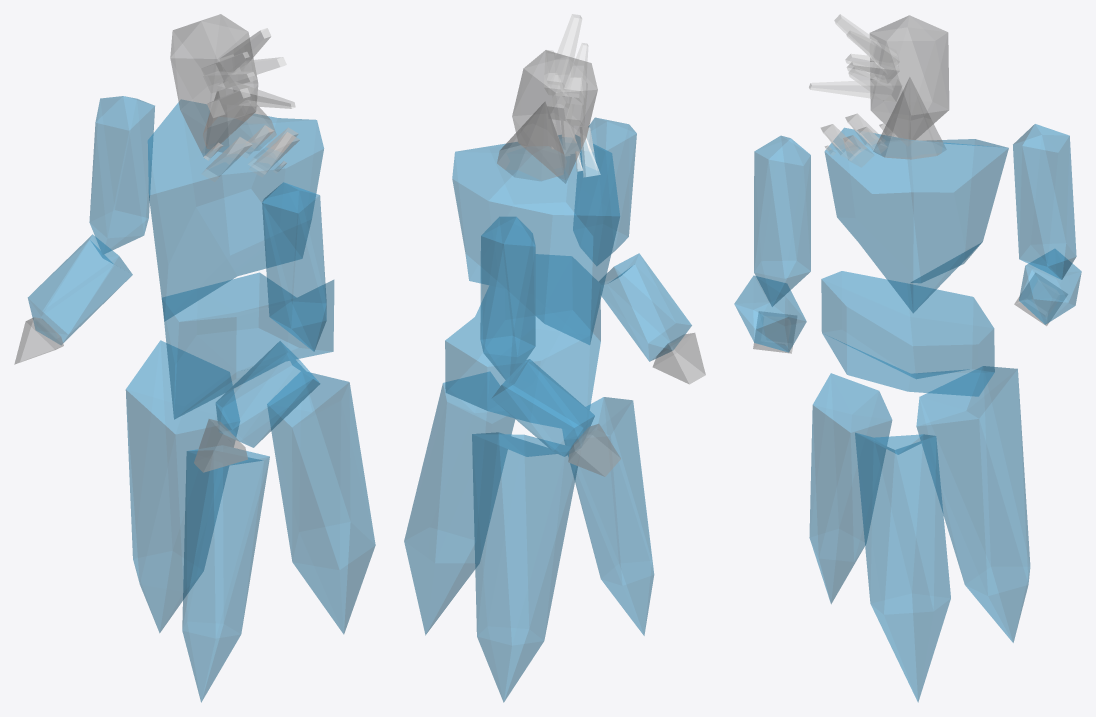
Rendered from ghostDistanceAttack11.obj.
3 views of the same model, side by side, from view 1: azimuth 30°, elevation 25°; view 2: azimuth 150°, elevation 25°; view 3: azimuth 270°, elevation 25° (orthographic). The views are drawn at different scales.
Parts seen in each view (by area): view 1: Cube.001_Cube.007, Icosphere.020, Icosphere.019, Cube_Cube.007, Icosphere.018, Icosphere.005_Icosphere.007, Icosphere.007_Icosphere.006, Icosphere.003_Icosphere.007, Icosphere.008_Icosphere.006, Icosphere.006_Icosphere.006, Cone_Cone.007, Cube.002_Cube.007 (+8 smaller); view 2: Cube.001_Cube.007, Icosphere.020, Cube_Cube.007, Icosphere.019, Icosphere.018, Icosphere.007_Icosphere.006, Icosphere.003_Icosphere.007, Icosphere.005_Icosphere.007, Icosphere.006_Icosphere.006, Icosphere.008_Icosphere.006, Cone_Cone.007, Cube.002_Cube.007 (+4 smaller); view 3: Cube.001_Cube.007, Icosphere.020, Icosphere.019, Cube_Cube.007, Icosphere.018, Icosphere.005_Icosphere.007, Icosphere.003_Icosphere.007, Icosphere.007_Icosphere.006, Icosphere.006_Icosphere.006, Cone_Cone.007, Icosphere.008_Icosphere.006, Cube.003_Cube.007 (+5 smaller).
Part boxes in pixels (x1=…): Cube.001_Cube.007: x1=147, y1=99, x2=323, y2=321; Icosphere.020: x1=125, y1=340, x2=239, y2=632; Icosphere.019: x1=267, y1=372, x2=375, y2=634; Cube_Cube.007: x1=162, y1=272, x2=334, y2=419; Icosphere.018: x1=182, y1=445, x2=269, y2=702; Icosphere.005_Icosphere.007: x1=262, y1=182, x2=326, y2=351; Icosphere.007_Icosphere.006: x1=89, y1=96, x2=154, y2=254; Icosphere.003_Icosphere.007: x1=170, y1=14, x2=258, y2=156; Icosphere.008_Icosphere.006: x1=28, y1=234, x2=132, y2=344; Icosphere.006_Icosphere.006: x1=215, y1=341, x2=320, y2=447; Cone_Cone.007: x1=203, y1=91, x2=276, y2=152; Cube.002_Cube.007: x1=194, y1=419, x2=247, y2=472; Cube.001_Cube.007: x1=452, y1=135, x2=619, y2=344; Icosphere.020: x1=472, y1=432, x2=580, y2=702; Cube_Cube.007: x1=445, y1=254, x2=600, y2=432; Icosphere.019: x1=404, y1=372, x2=515, y2=635; Icosphere.018: x1=562, y1=397, x2=654, y2=635; Icosphere.007_Icosphere.006: x1=480, y1=216, x2=535, y2=383; Icosphere.003_Icosphere.007: x1=512, y1=50, x2=597, y2=183; Icosphere.005_Icosphere.007: x1=573, y1=117, x2=636, y2=265; Icosphere.006_Icosphere.006: x1=599, y1=253, x2=691, y2=361; Icosphere.008_Icosphere.006: x1=491, y1=359, x2=594, y2=456; Cone_Cone.007: x1=497, y1=102, x2=563, y2=181; Cube.002_Cube.007: x1=653, y1=333, x2=705, y2=384; Cube.001_Cube.007: x1=824, y1=127, x2=1008, y2=313; Icosphere.020: x1=916, y1=366, x2=1030, y2=642; Icosphere.019: x1=855, y1=432, x2=950, y2=702; Cube_Cube.007: x1=821, y1=271, x2=994, y2=396; Icosphere.018: x1=809, y1=373, x2=892, y2=603; Icosphere.005_Icosphere.007: x1=754, y1=135, x2=810, y2=306; Icosphere.003_Icosphere.007: x1=869, y1=15, x2=949, y2=139; Icosphere.007_Icosphere.006: x1=1013, y1=124, x2=1076, y2=279; Icosphere.006_Icosphere.006: x1=734, y1=275, x2=806, y2=352; Cone_Cone.007: x1=873, y1=77, x2=946, y2=159; Icosphere.008_Icosphere.006: x1=1019, y1=249, x2=1081, y2=324; Cube.003_Cube.007: x1=1014, y1=273, x2=1067, y2=325.
Bounding box in the file's own units: 20.35 × 46.12 × 22.93.
